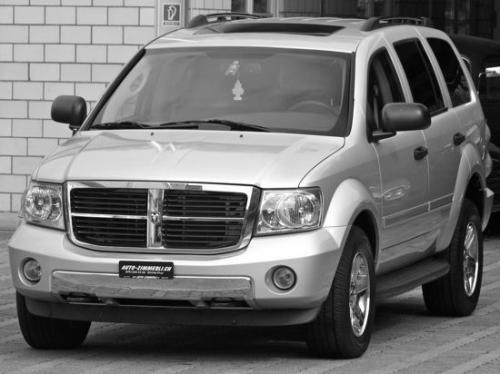car: (9, 6, 500, 363)
